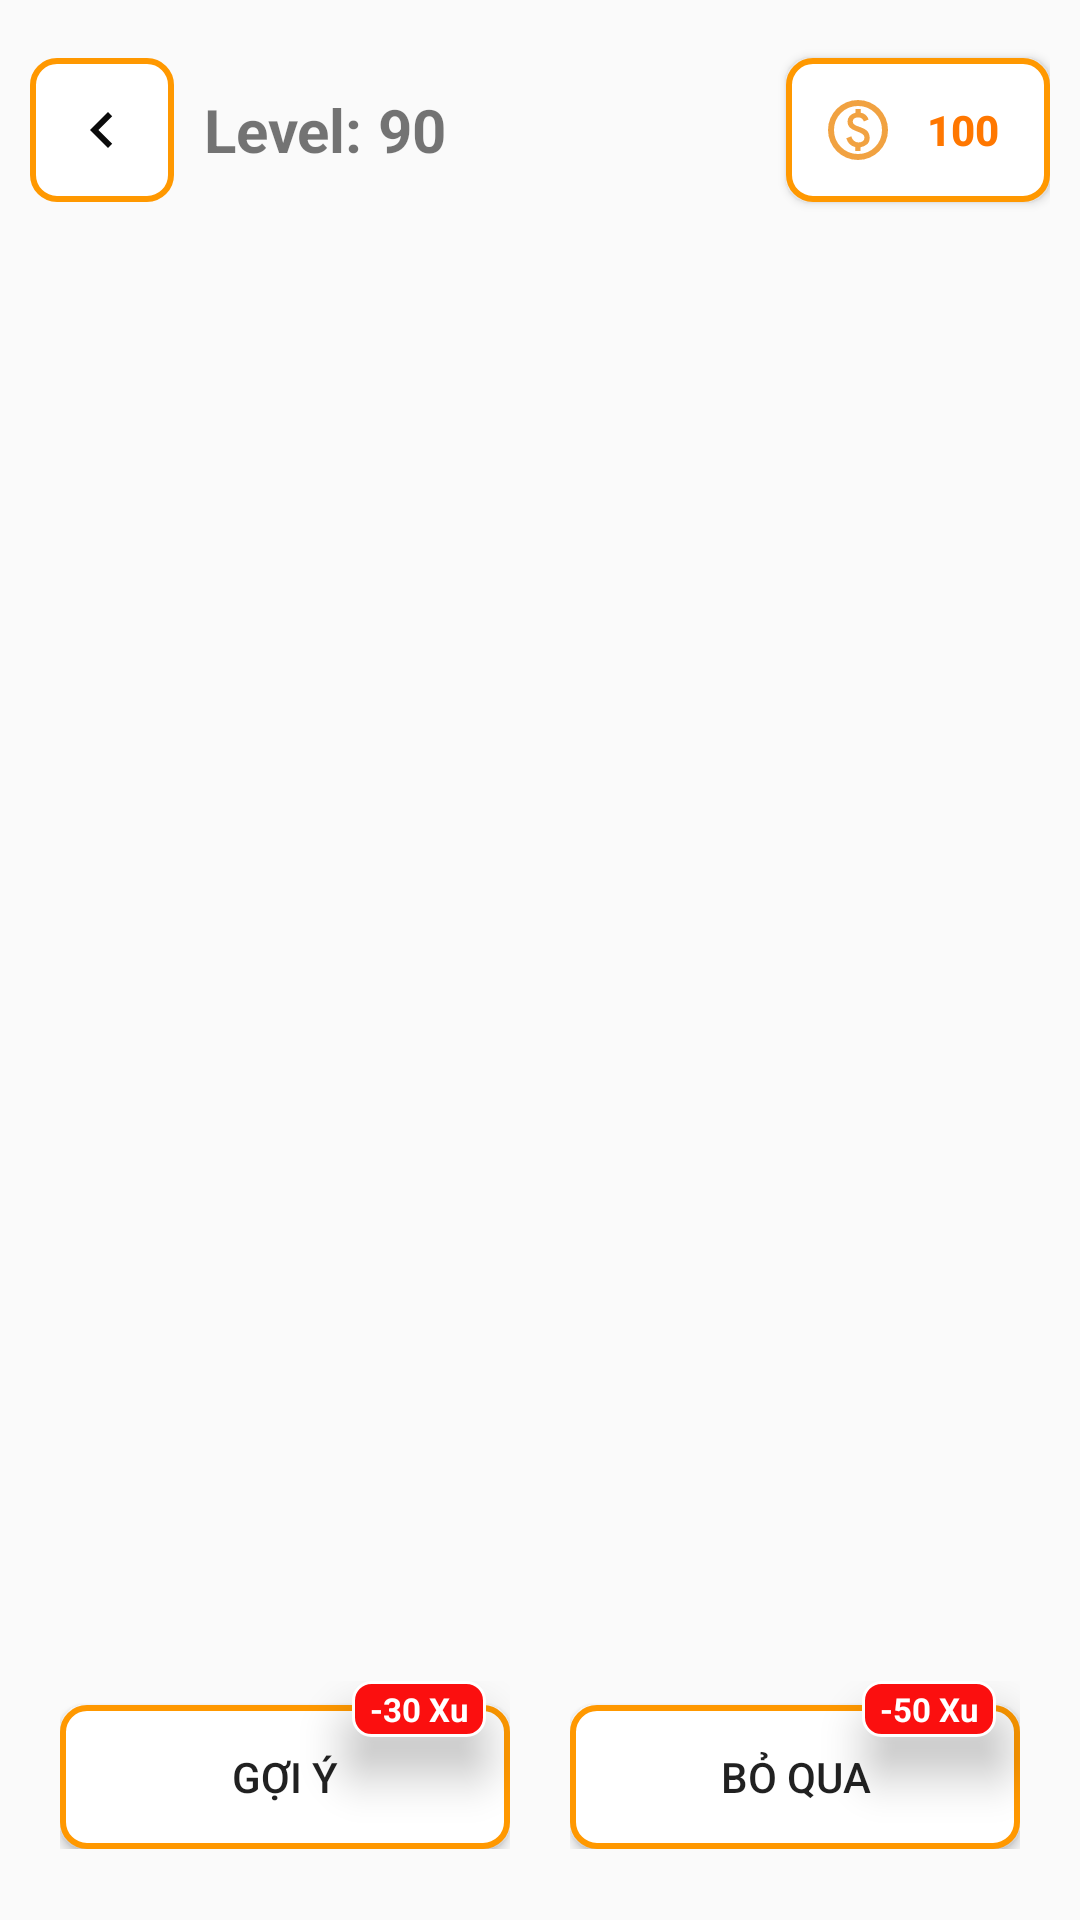

Where icons sit on this 1080px x 1920px app screen, as box(x1, y1, x2, y2):
Nút quay lại màn hình trước: box(30, 58, 174, 202)
